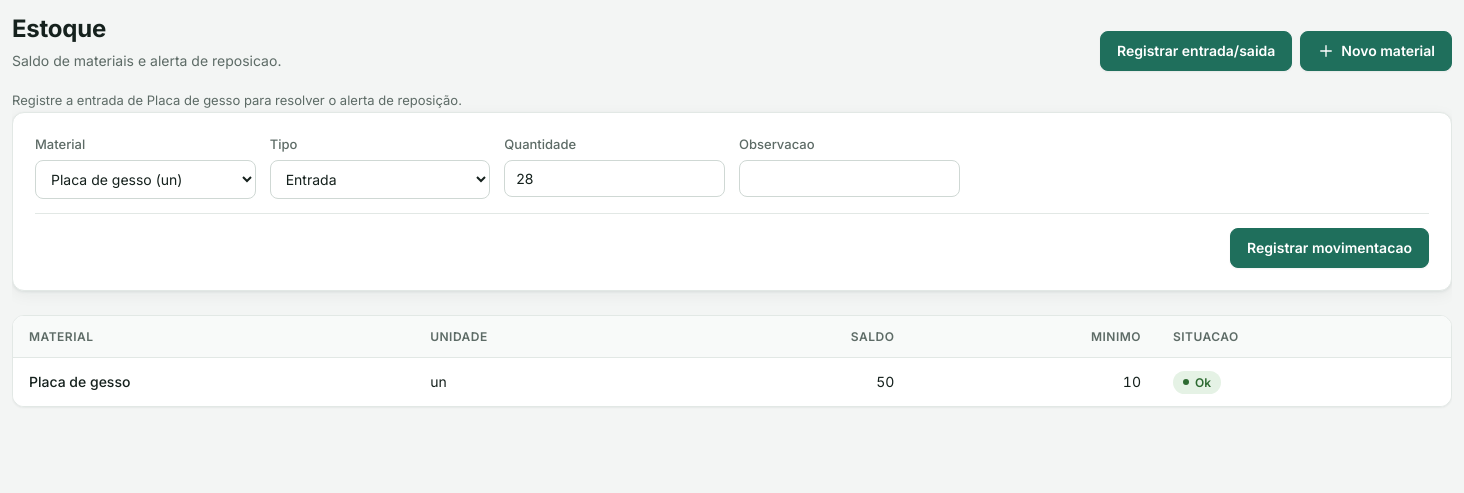
Test: Estoque: atalho do "Resolver" de um alerta de reposição (EAP-68) › se a ENTRADA falha, não resolve o alerta e mantém o formulário
The width and height of the screenshot is (1464, 493).
expect the cell "Placa de gesso" is shown: met, box 13,358 -> 414,406
Click the button "Registrar movimentacao". click: click(1330, 248)
box: 1230,228 -> 1429,268
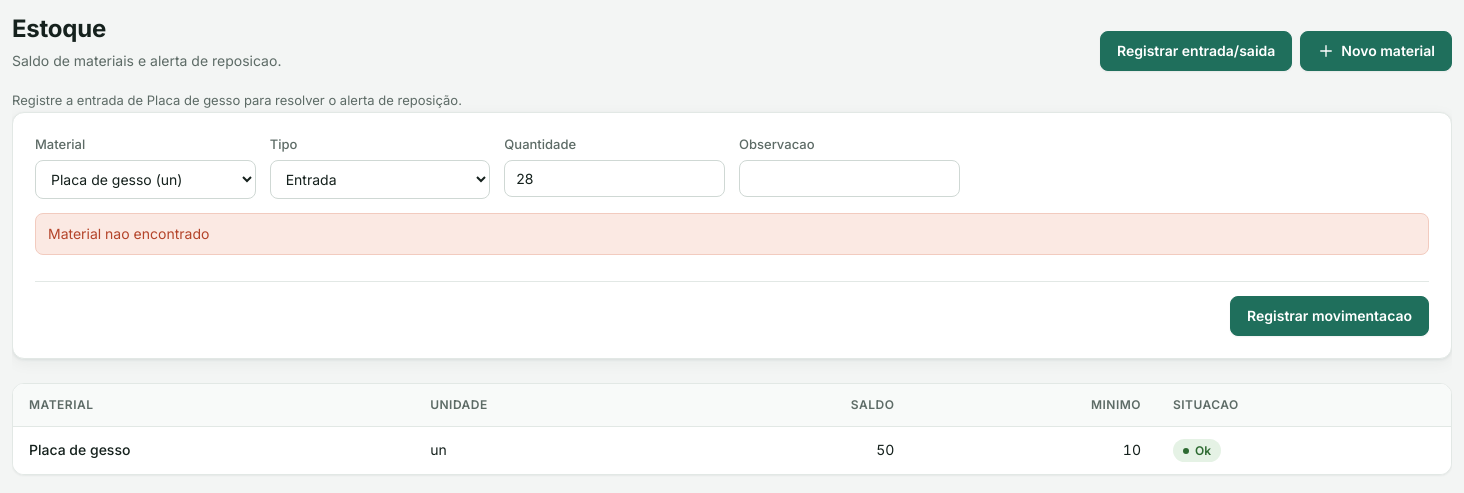
expect the number field labelled "Quantidade" holds "28": met, box 504,160 -> 725,197
expect the text "Material nao encontrado" is shown: met, box 35,213 -> 1429,255
